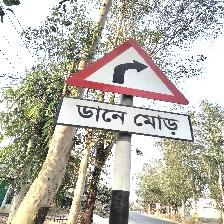Right-turn: (56, 38, 195, 144)
